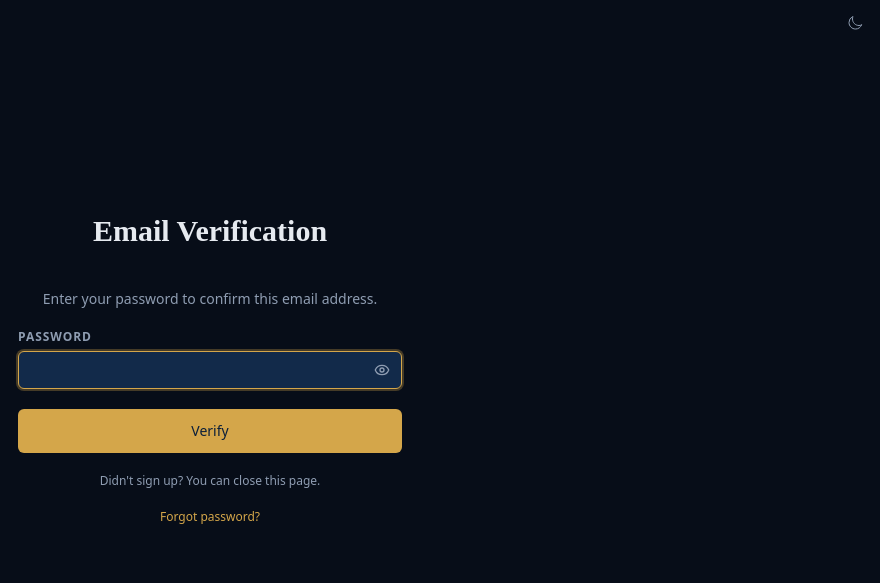
Test: verify-email page, password confirmation › a 429 keeps the form with an inline message
The image size is (880, 583).
Step 1. Type "pw-pw-pw-1" into the password field labelled "Password" → (210, 370), box [18,351,402,389]
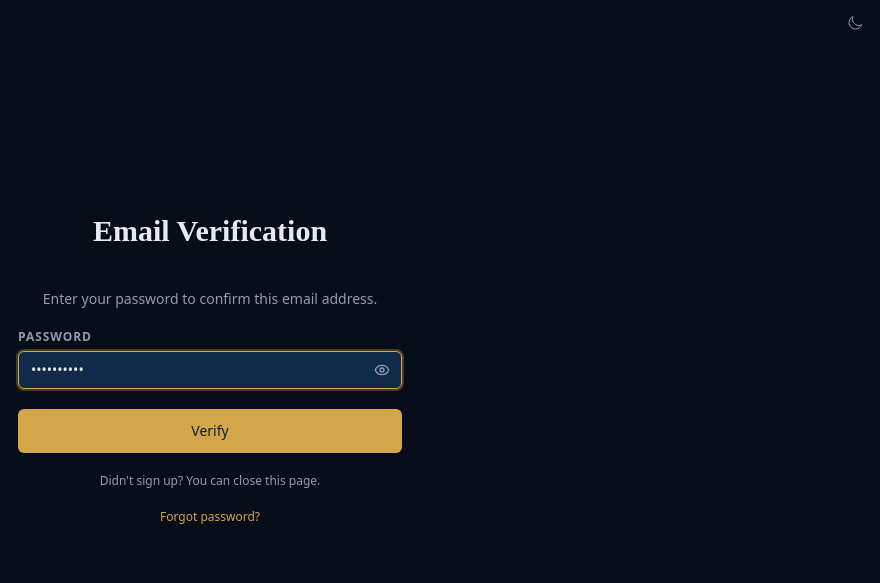
Step 2. Click the button "Verify" → (210, 431), box [18,409,402,453]
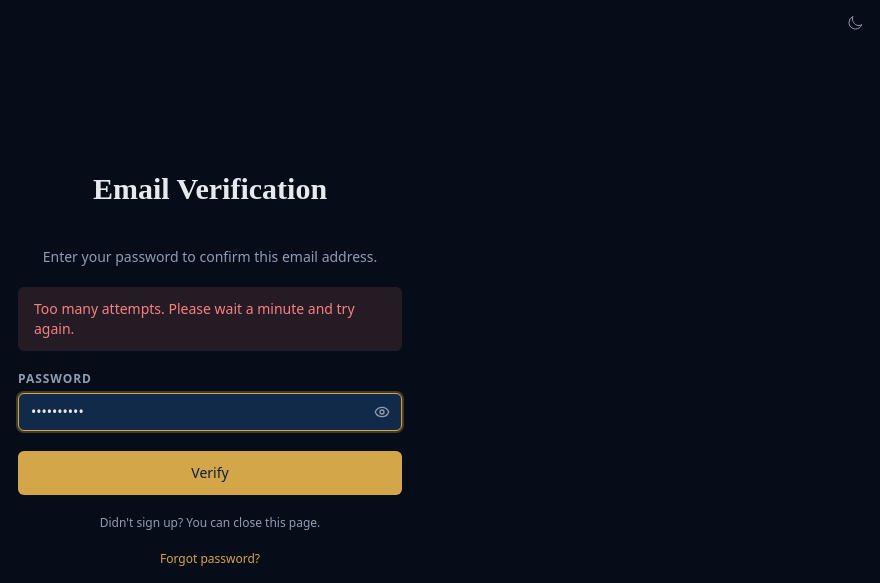
expect the message "Too many attempts. Please wait a minute and try again." is shown: met, box [18,287,402,351]
